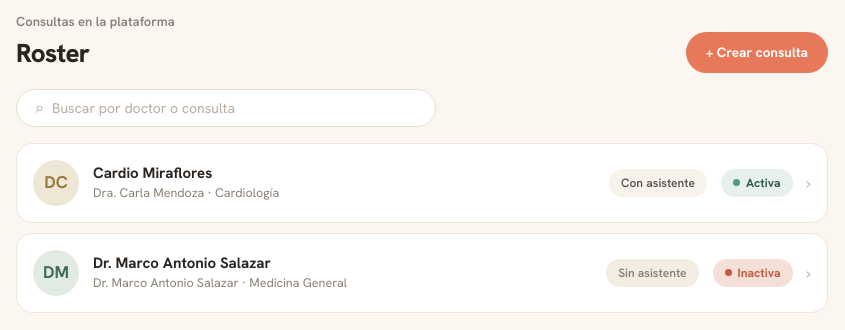
Test case: RosterList › shows an empty state when nothing matches the search
Step 1. Type "pediatría" into the field with placeholder "Buscar por doctor o consulta" → x=240, y=108, box [52, 98, 429, 118]
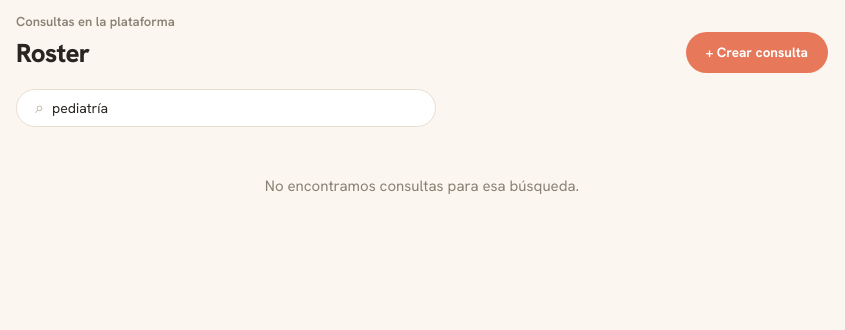
Now the text "No encontramos consultas para esa búsqueda." is shown, box [265, 176, 579, 196]
